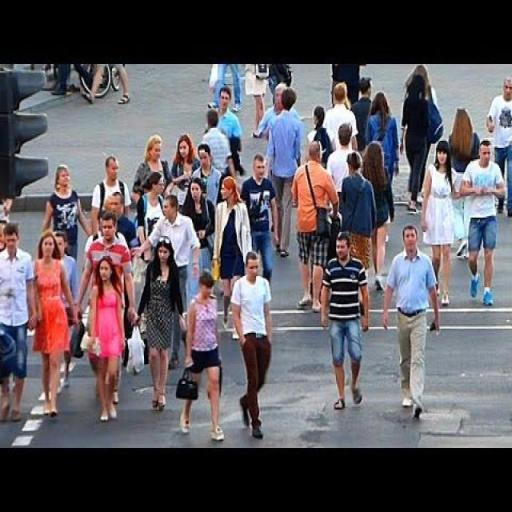person: (379, 225, 446, 420), (135, 195, 204, 371), (78, 211, 138, 405), (319, 232, 375, 411), (136, 235, 189, 416), (228, 247, 274, 442), (181, 270, 228, 442), (1, 224, 39, 429), (419, 138, 462, 310), (42, 165, 88, 320), (27, 231, 65, 418), (463, 140, 504, 310), (212, 175, 252, 343), (266, 85, 303, 259), (91, 255, 128, 422), (295, 145, 327, 316), (244, 153, 283, 283), (400, 74, 432, 216), (367, 94, 400, 224), (364, 140, 392, 290), (485, 76, 512, 224), (346, 152, 371, 306), (186, 182, 212, 308), (57, 235, 76, 394)
